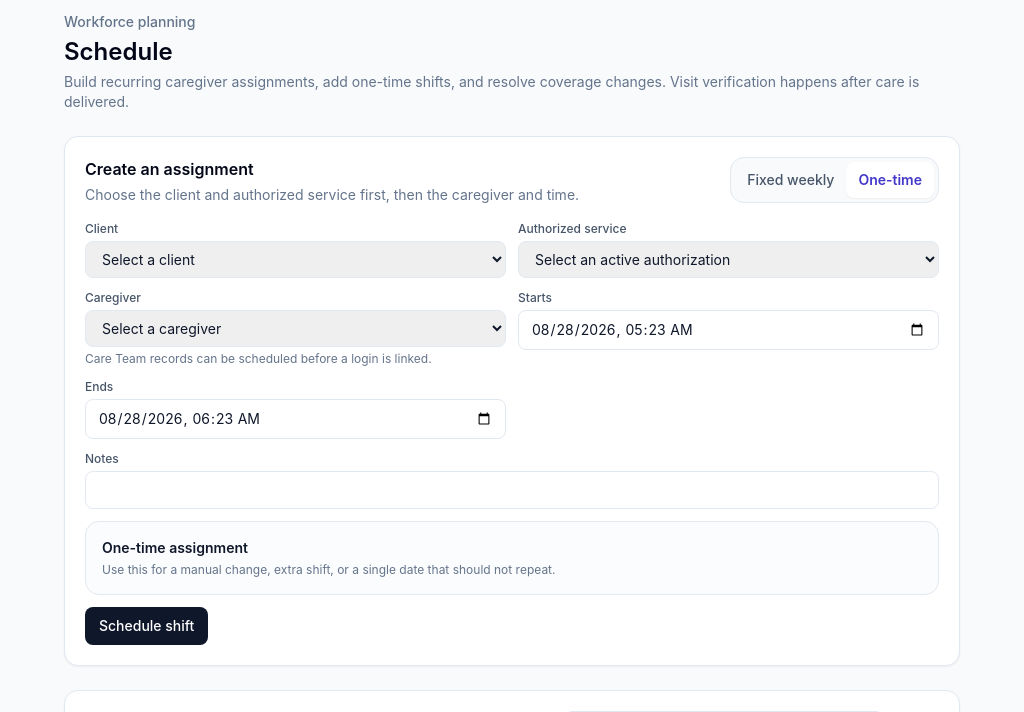
Test: SchedulePage › recurring schedule creation › disables the submit button while a batch is in flight, preventing a duplicate submission
Select "Jordan Rivera" in the dropdown labelled "Client" at [296, 260], box [85,241,506,278]
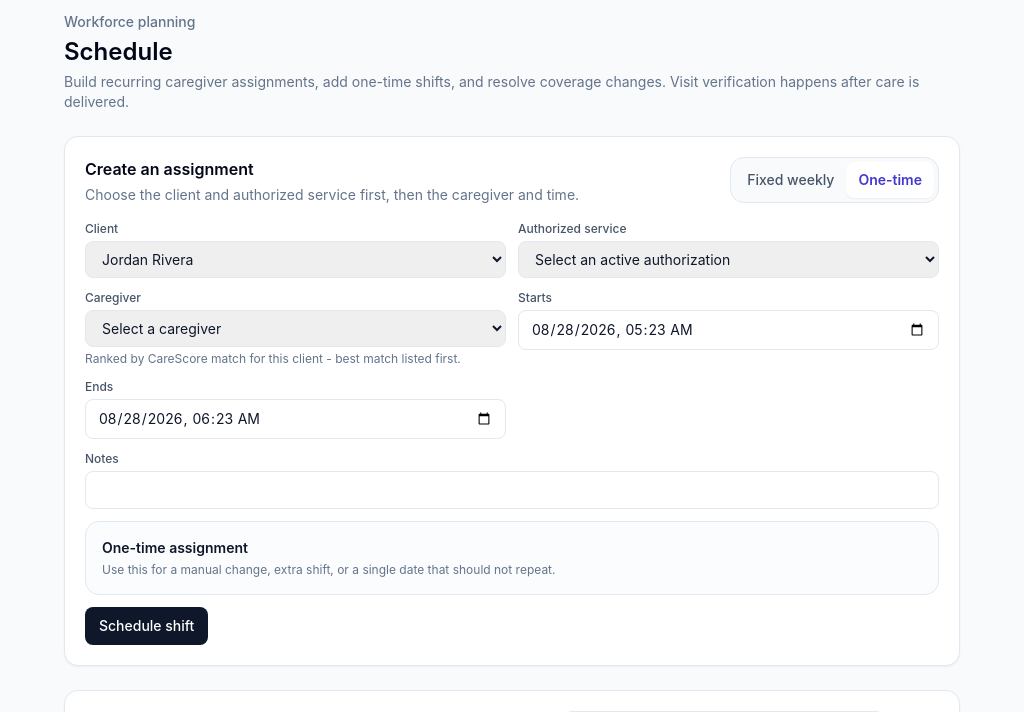
Replace the text in the field labelled "Starts" with "2026-08-24T15:00" at [728, 330], box [518,310,939,350]
Replace the text in the field labelled "Ends" with "2026-08-24T20:00" at [296, 419], box [85,399,506,439]
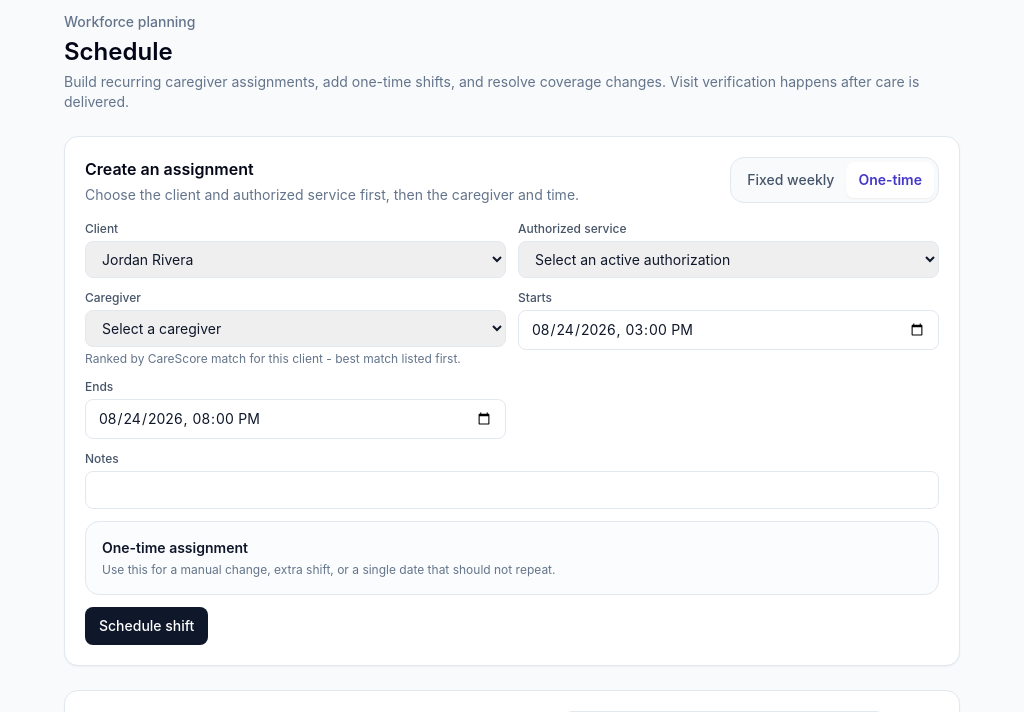
Select "PCS — Personal Care (2026-01-01 to 2026-12-31)" in the dropdown labelled "Authorized service" at [728, 260], box [518,241,939,278]
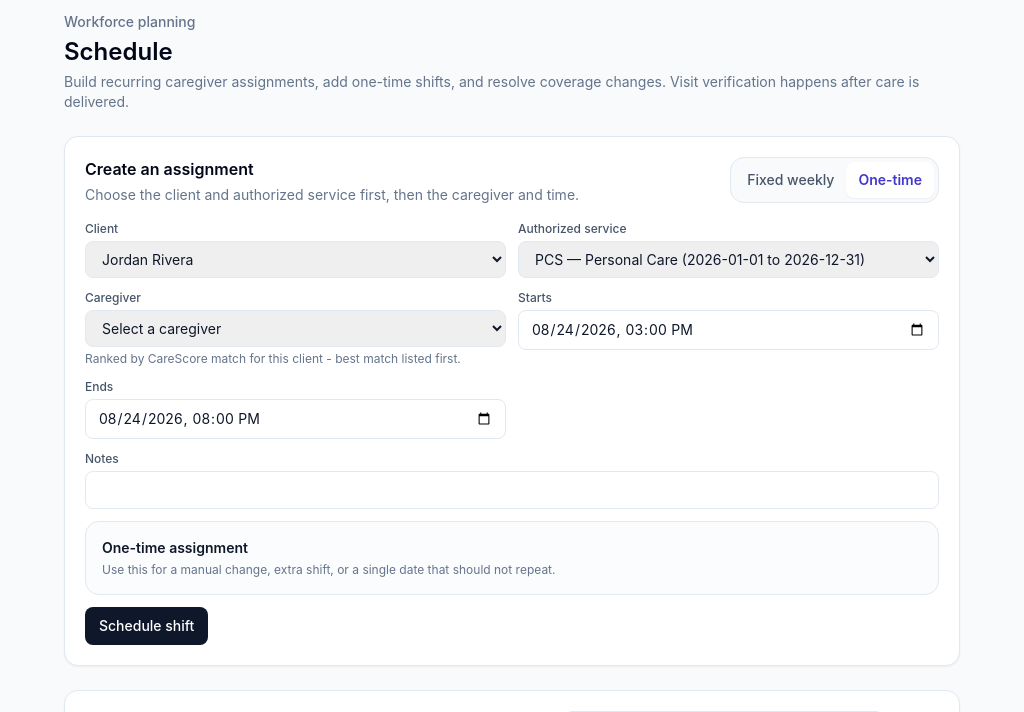
Select "Sam Caregiver (no login)" in the dropdown labelled "Caregiver" at [296, 328], box [85,310,506,347]
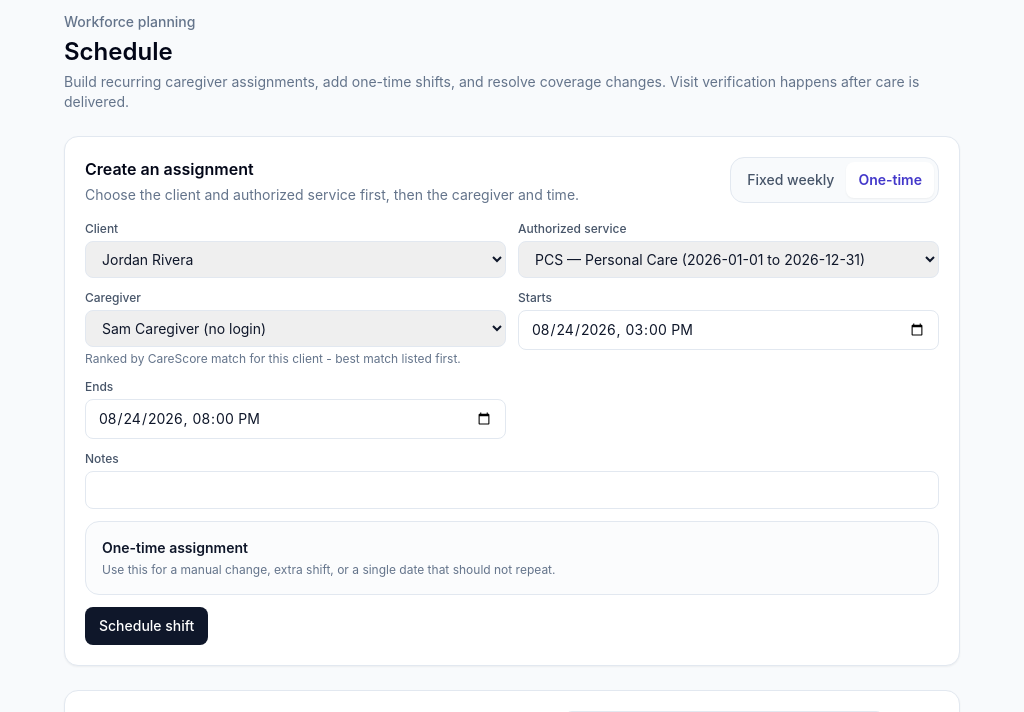
Click the button "Schedule shift" at [147, 626], box [85,607,208,645]
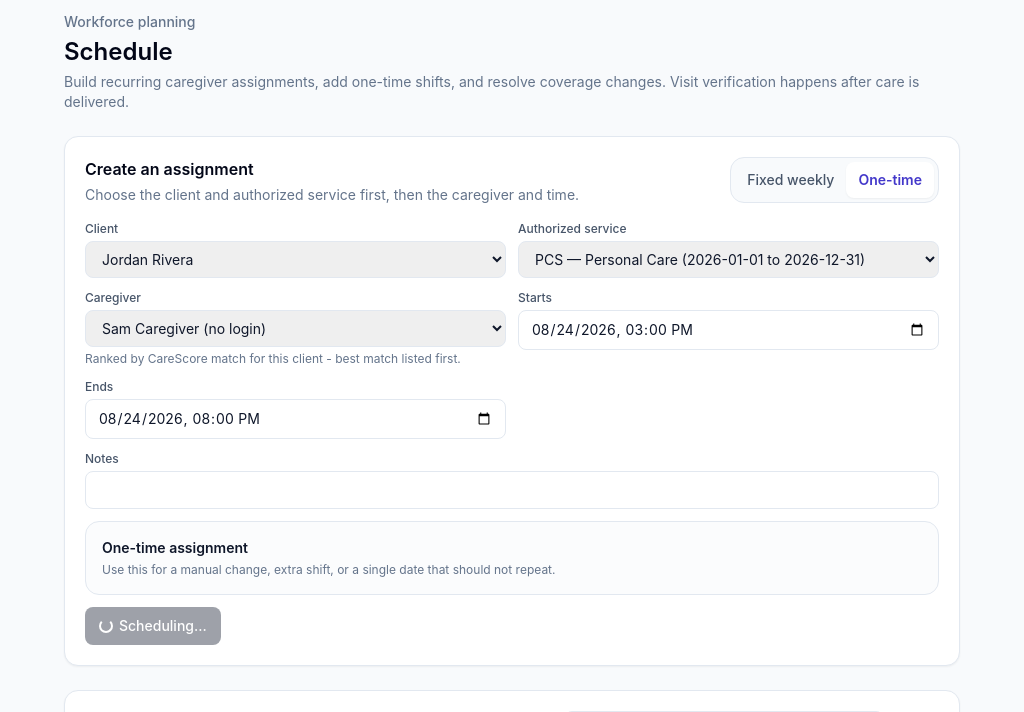
Result: the button named "Schedule shift" is disabled
Click the button named "Schedule shift" at [153, 626], box [85,607,221,645]
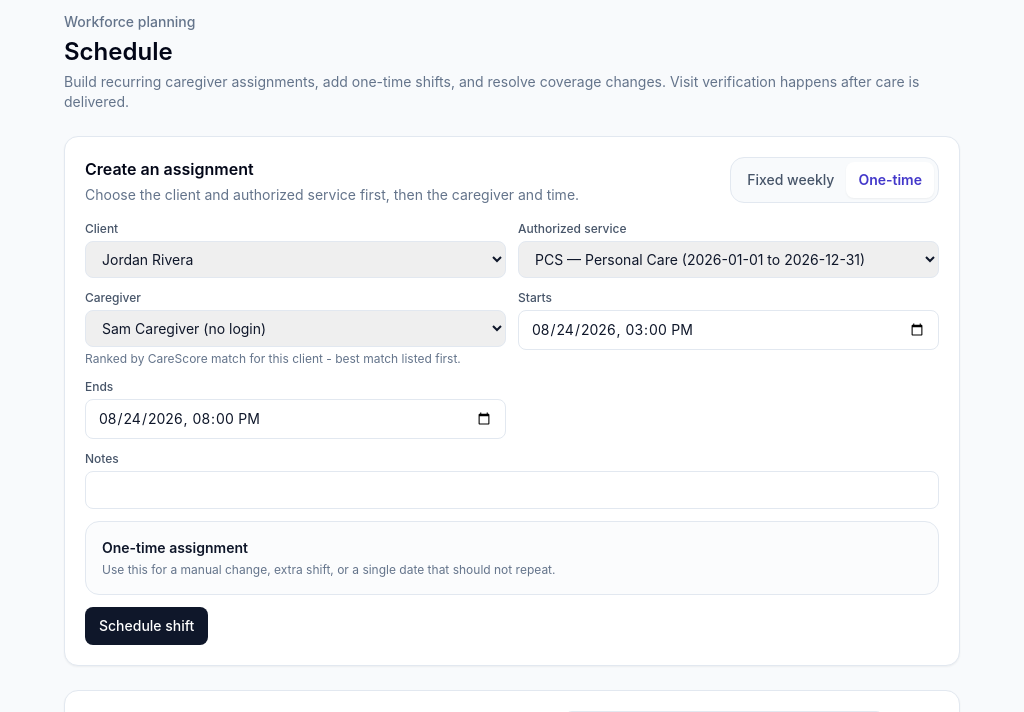
Result: the button "Schedule shift" is enabled at [85,607,208,645]
